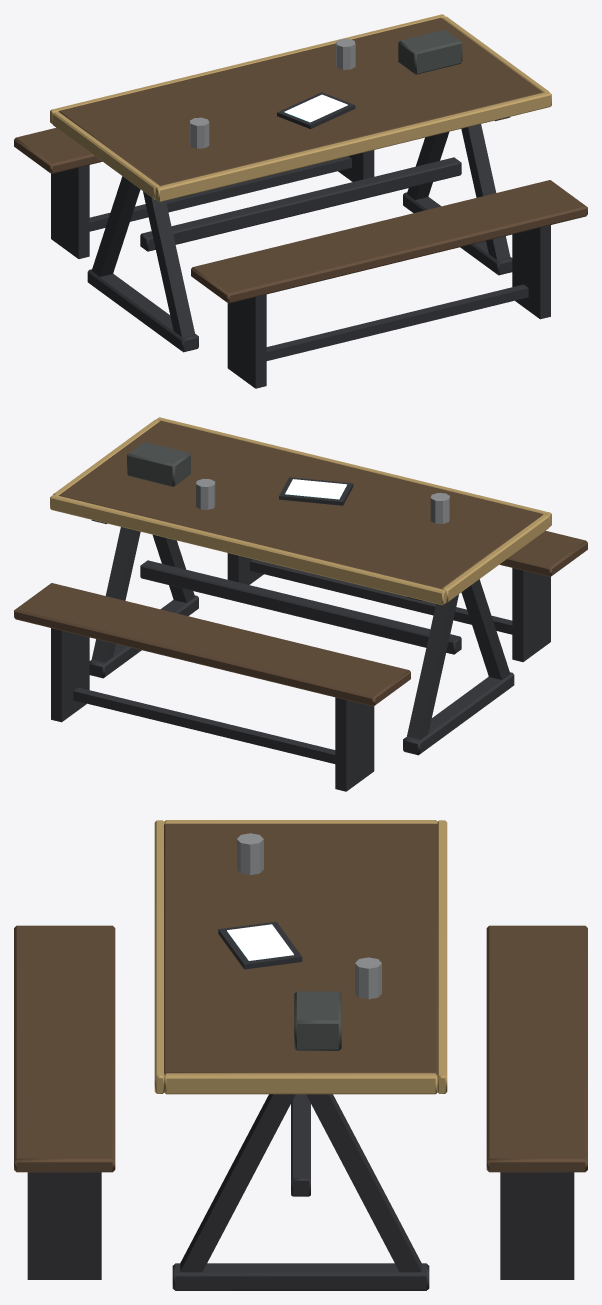
The model's file is int_table.glb.
3 views of the same model, one above another, from view 1: azimuth 30°, elevation 25°; view 2: azimuth 150°, elevation 25°; view 3: azimuth 270°, elevation 25° (orthographic). The views are drawn at different scales.
Parts seen in each view (by area): view 1: kit_int_table_wood, kit_int_table_dark_metal, kit_int_table_trim_metal, kit_int_table_paint, kit_int_table_metal, kit_int_table_glow; view 2: kit_int_table_wood, kit_int_table_dark_metal, kit_int_table_trim_metal, kit_int_table_paint, kit_int_table_metal, kit_int_table_glow; view 3: kit_int_table_wood, kit_int_table_dark_metal, kit_int_table_trim_metal, kit_int_table_paint, kit_int_table_metal, kit_int_table_glow.
Boxes of the visible parts, x1,y1,x2,y2 form: kit_int_table_wood: (14, 17, 587, 303); kit_int_table_dark_metal: (51, 92, 550, 388); kit_int_table_trim_metal: (50, 14, 551, 202); kit_int_table_paint: (398, 29, 462, 74); kit_int_table_metal: (189, 39, 355, 148); kit_int_table_glow: (284, 94, 347, 122); kit_int_table_wood: (14, 420, 587, 706); kit_int_table_dark_metal: (51, 477, 550, 791); kit_int_table_trim_metal: (50, 417, 551, 605); kit_int_table_paint: (127, 442, 190, 486); kit_int_table_metal: (196, 479, 449, 523); kit_int_table_glow: (285, 479, 347, 499); kit_int_table_wood: (14, 823, 587, 1172); kit_int_table_dark_metal: (27, 921, 574, 1290); kit_int_table_trim_metal: (154, 820, 447, 1094); kit_int_table_paint: (294, 991, 341, 1050); kit_int_table_metal: (237, 833, 381, 999); kit_int_table_glow: (227, 924, 293, 960).
Size of the model in its own units: 1.81 by 0.87 by 1.7.
